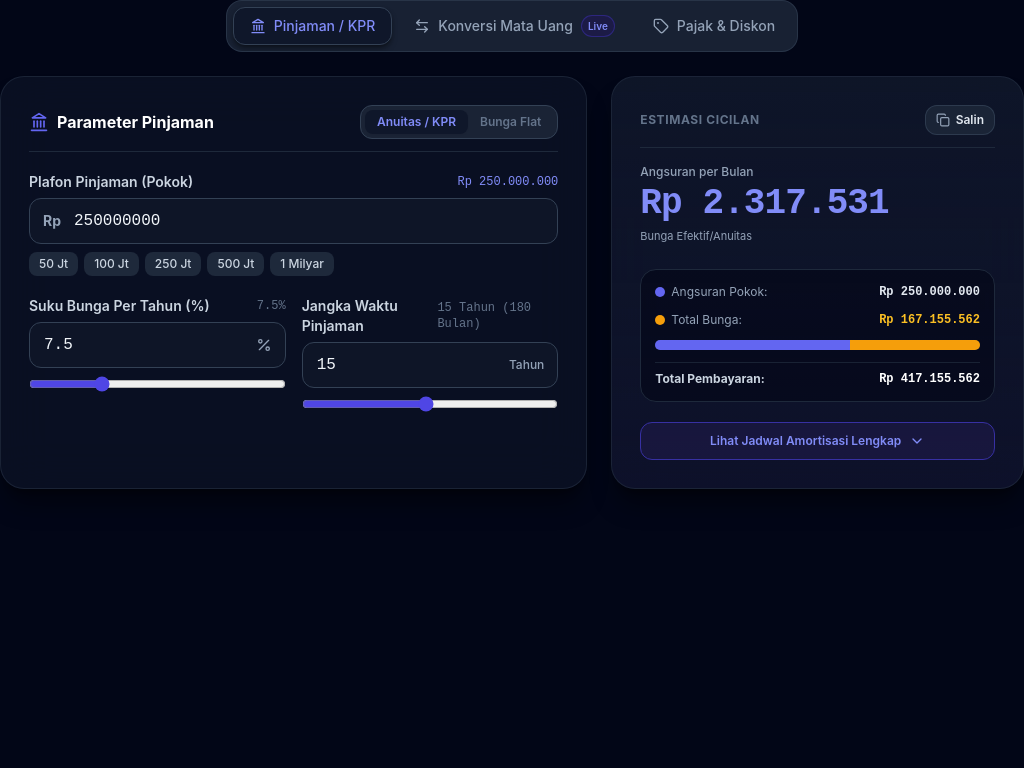
Scenario: FinancialCalculator Component Suite › switches between financial sub-tabs
Expected: the heading "Parameter Pinjaman" is shown, [57,110,214,134]
What coordinates should you click on to do the following:
click the tab "Konversi Mata Uang Live"
I would click on:
 (515, 26)
Its box is [398,7,631,45].
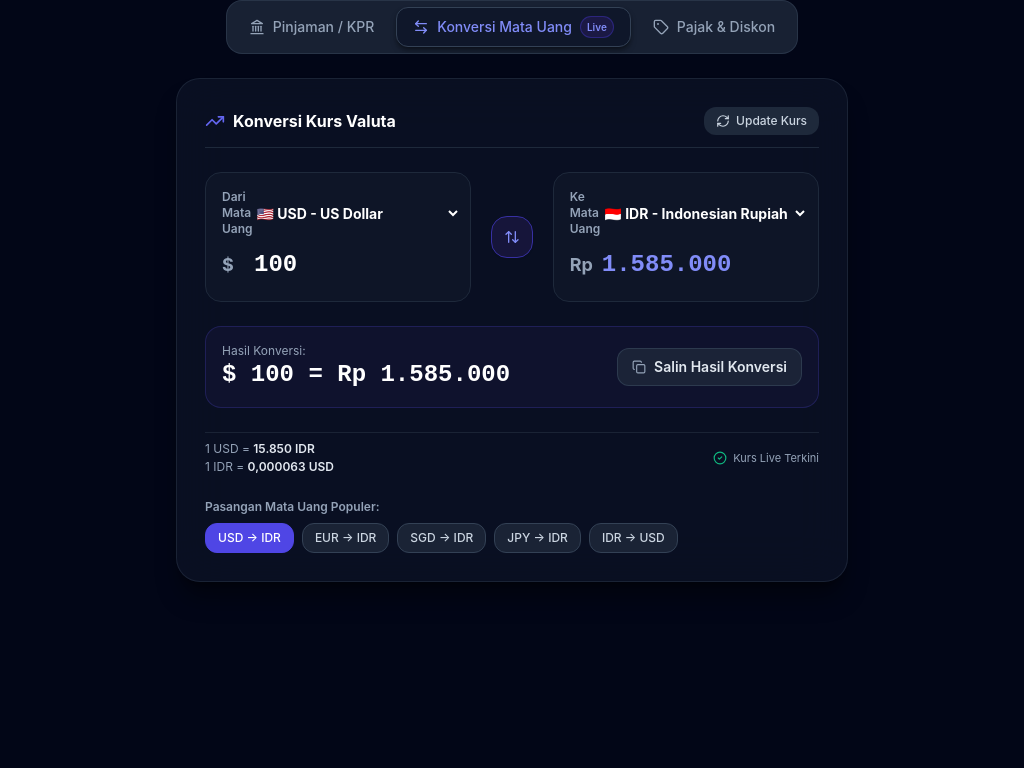
Expected: the text "Dari Mata Uang" is shown, [222,189,253,237]
What coordinates should you click on to do the following:
click the tab "Pajak & Diskon"
I would click on:
 (714, 27)
Its box is [637,9,791,45].
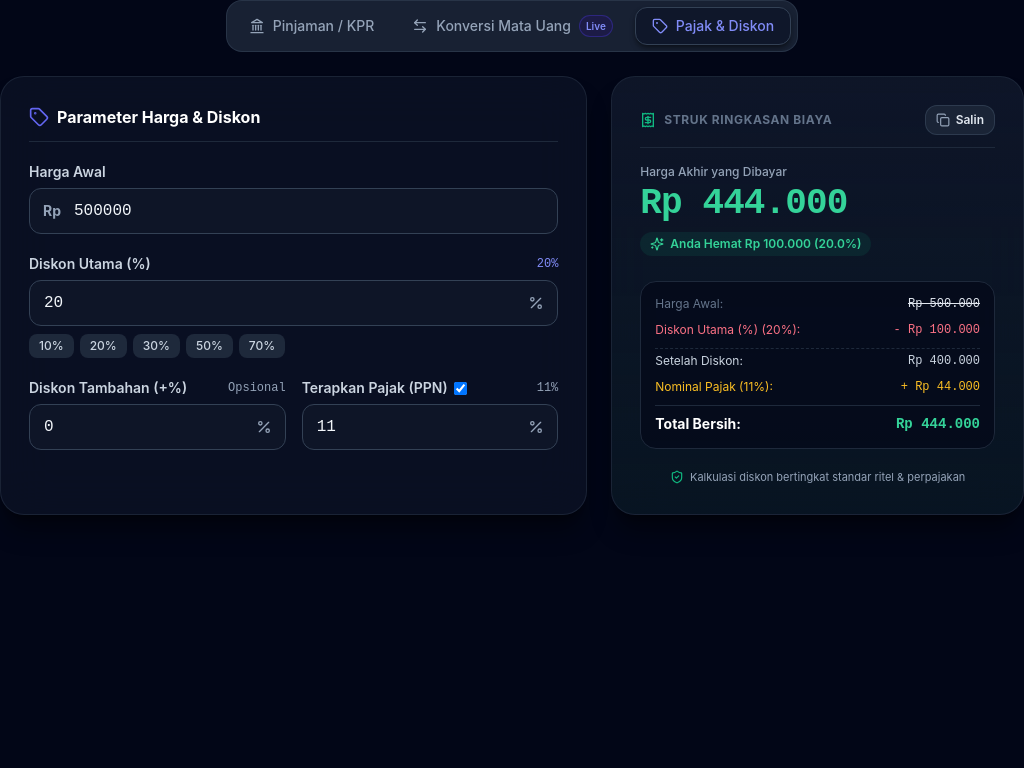
Expected: the heading "Parameter Harga & Diskon" is shown, [57,105,260,129]
